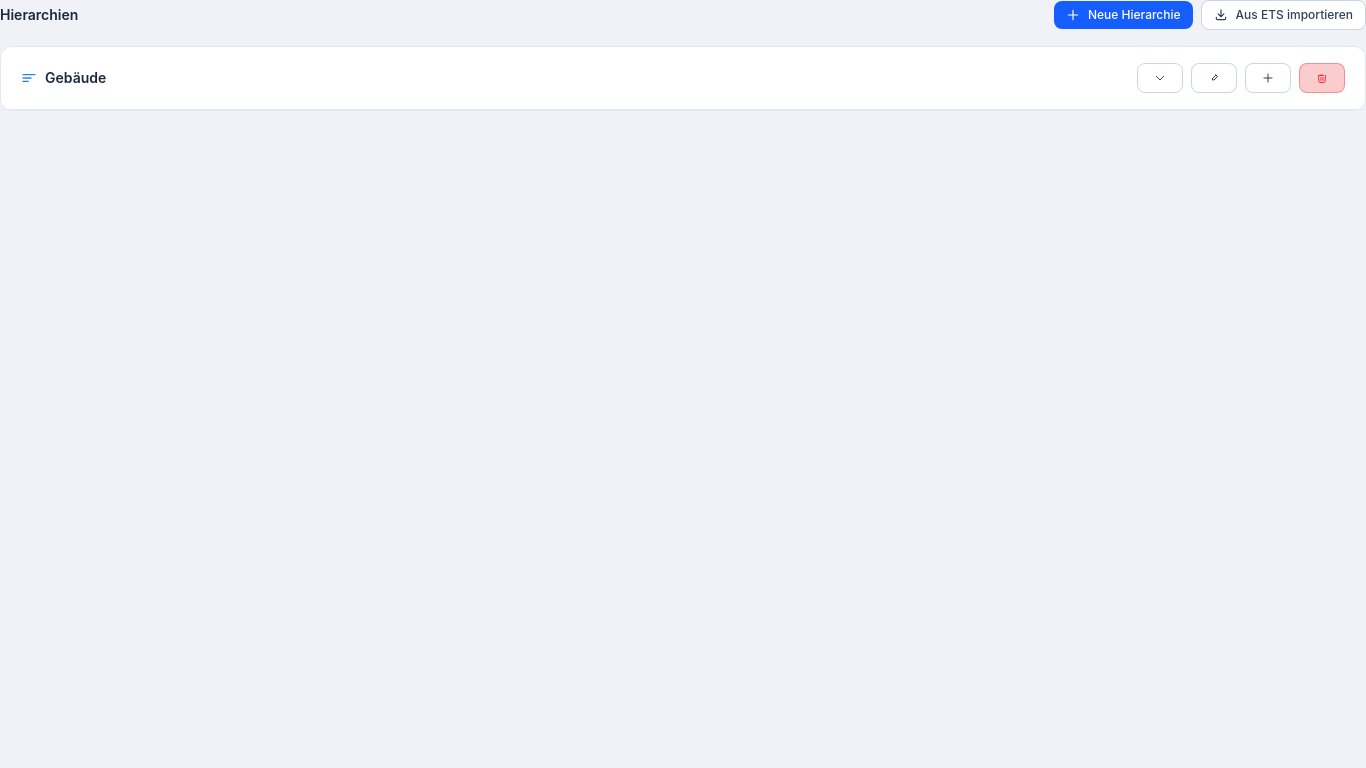
Test: HierarchyManager — add root node › opens node modal on add-root button click
Click the button with test id "btn-add-root-tree-1": (1268, 78) [1245, 63, 1291, 93]
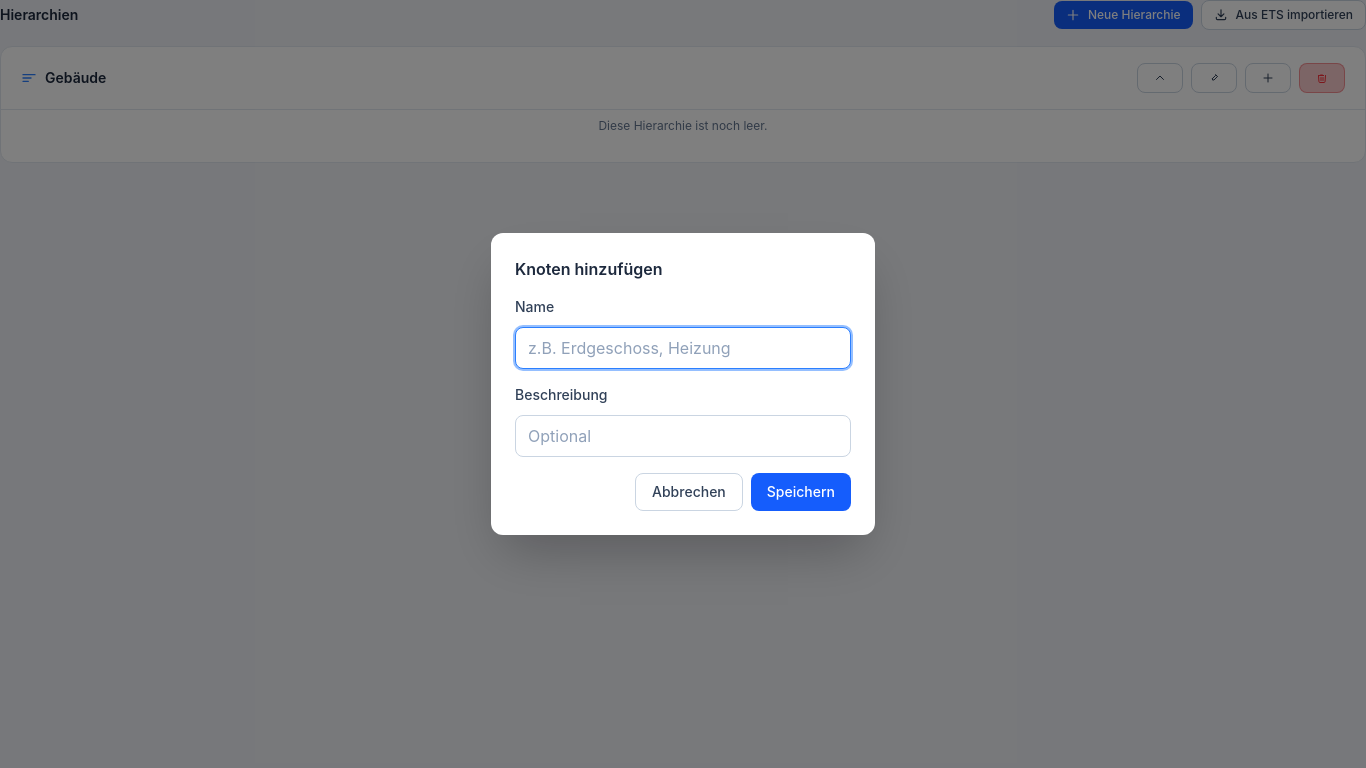
Result: the field with placeholder "z.B. Erdgeschoss, Heizung" is shown at [515, 327, 851, 369]
